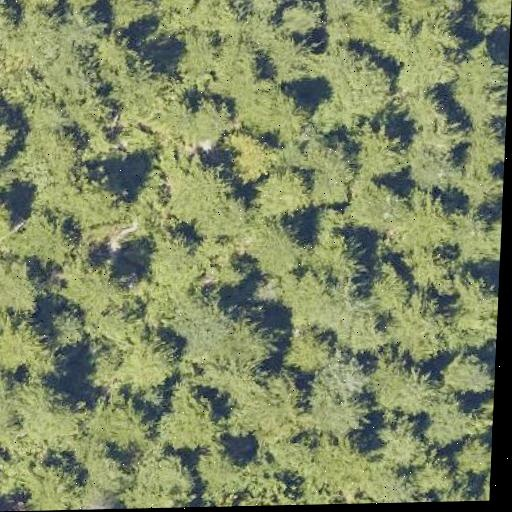tree-top: (180, 295, 278, 381), (100, 318, 189, 398), (272, 256, 367, 330), (225, 364, 315, 442), (152, 151, 243, 225), (300, 350, 379, 433), (319, 44, 403, 122), (298, 221, 376, 305), (109, 63, 179, 150), (151, 380, 231, 456), (389, 16, 467, 93), (383, 286, 456, 365), (13, 374, 84, 454), (51, 246, 132, 314), (33, 167, 131, 222), (448, 39, 510, 124), (362, 347, 437, 417), (384, 184, 459, 254), (121, 445, 202, 509), (139, 221, 208, 295), (81, 386, 156, 454), (12, 201, 85, 270), (14, 450, 93, 511), (169, 90, 242, 156), (231, 74, 305, 137), (400, 125, 466, 190), (18, 118, 86, 181), (301, 433, 366, 497), (349, 118, 412, 184), (0, 309, 60, 378), (239, 214, 306, 275), (247, 162, 314, 221), (149, 0, 245, 41), (206, 30, 272, 88), (400, 243, 465, 301), (0, 9, 58, 74), (340, 177, 408, 232), (220, 127, 281, 188), (417, 390, 476, 449), (371, 414, 435, 468), (0, 249, 50, 317), (304, 147, 360, 207), (450, 203, 502, 266), (450, 267, 500, 332), (280, 322, 339, 377), (170, 25, 224, 84), (40, 53, 96, 106), (438, 347, 496, 398), (90, 27, 144, 81), (364, 263, 418, 317), (224, 471, 303, 507), (188, 449, 244, 498), (393, 0, 462, 37), (43, 301, 91, 350), (462, 120, 506, 173), (274, 0, 329, 41), (0, 365, 28, 436), (98, 0, 155, 33), (410, 460, 458, 498), (459, 0, 512, 33), (451, 434, 492, 476), (0, 100, 21, 171), (319, 0, 366, 25), (0, 187, 19, 247), (0, 0, 21, 43), (12, 0, 76, 12), (244, 0, 289, 13), (476, 473, 490, 501)
